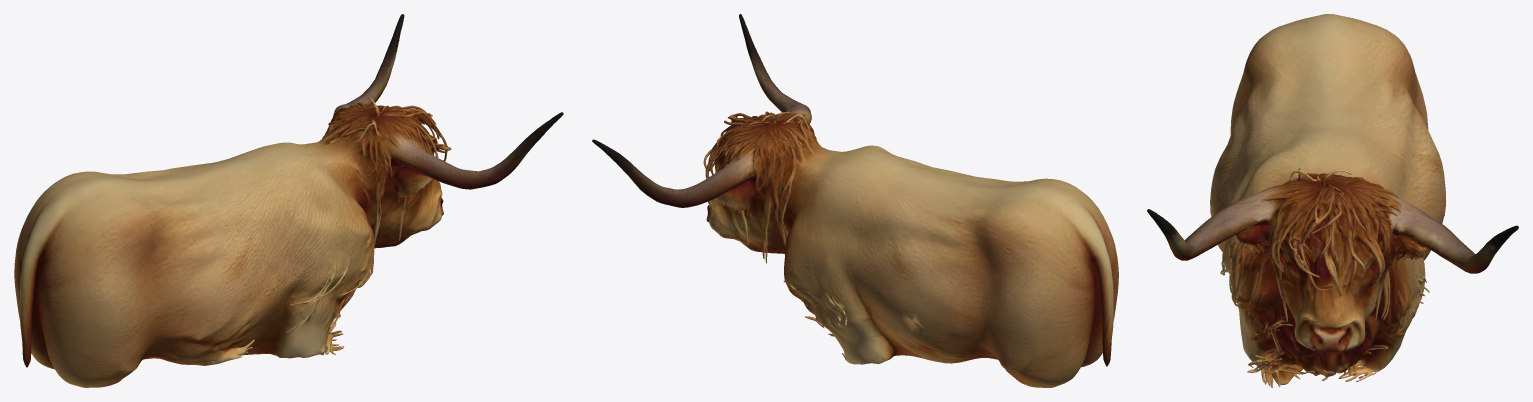
File: uk-highland-cow.glb
The picture shows the model from 3 angles, left to right: view 1: azimuth 30°, elevation 25°; view 2: azimuth 150°, elevation 25°; view 3: azimuth 270°, elevation 25°; orthographic projection. The views are drawn at different scales.
Parts seen in each view (by area): view 1: tripo_node_dbc2c9e0-4935-44a2-b7c9-7f58ed3788c4; view 2: tripo_node_dbc2c9e0-4935-44a2-b7c9-7f58ed3788c4; view 3: tripo_node_dbc2c9e0-4935-44a2-b7c9-7f58ed3788c4.
Boxes of the visible parts, x1,y1,x2,y2 form: tripo_node_dbc2c9e0-4935-44a2-b7c9-7f58ed3788c4: [14, 14, 563, 387]; tripo_node_dbc2c9e0-4935-44a2-b7c9-7f58ed3788c4: [592, 14, 1118, 387]; tripo_node_dbc2c9e0-4935-44a2-b7c9-7f58ed3788c4: [1147, 14, 1518, 387].
Size of the model in its own units: 0.9999 by 0.4953 by 0.5857.
1 material, 1 textured.
